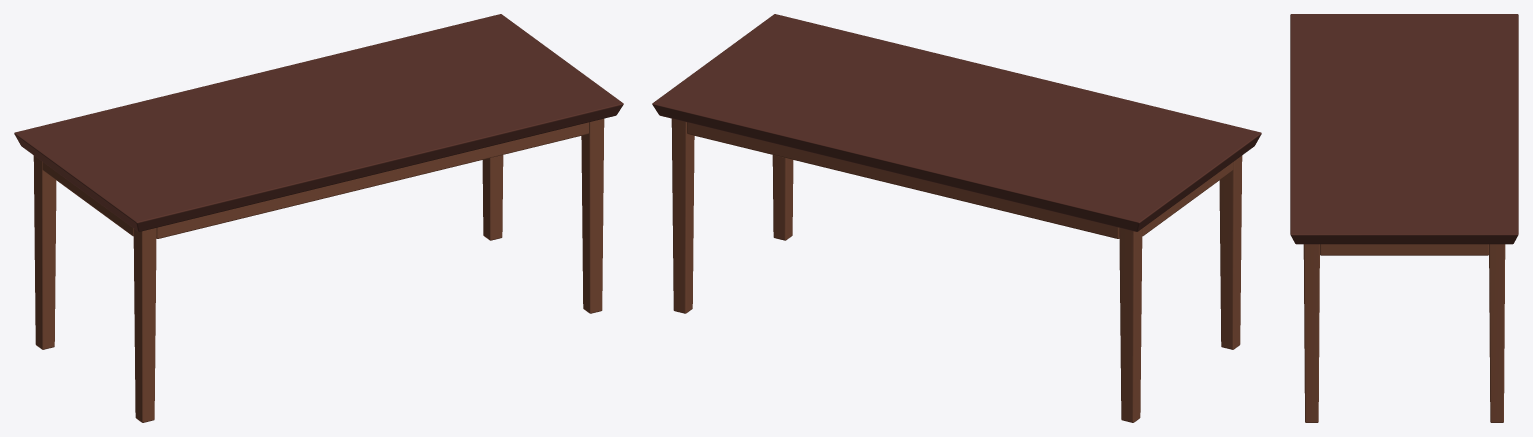
The model's file is Square Dining Tables.glb.
The picture shows the model from 3 angles, left to right: view 1: azimuth 30°, elevation 25°; view 2: azimuth 150°, elevation 25°; view 3: azimuth 270°, elevation 25°; orthographic projection. The views are drawn at different scales.
Parts seen in each view (by area): view 1: TableTop, Leg (×4), Aprons (×2); view 2: TableTop, Leg (×4), Aprons (×2); view 3: TableTop, Leg (×2), Aprons.
Boxes of the visible parts, x1,y1,x2,y2 form: TableTop: [14, 14, 623, 231]; Leg (×4): [33, 118, 604, 422]; Aprons (×2): [42, 122, 588, 238]; TableTop: [652, 14, 1261, 231]; Leg (×4): [671, 118, 1242, 422]; Aprons (×2): [687, 122, 1233, 238]; TableTop: [1290, 14, 1518, 244]; Leg (×2): [1303, 244, 1505, 422]; Aprons: [1320, 244, 1488, 255].
Bounding box in the file's own units: 2.4 × 0.9875 × 1.05.
